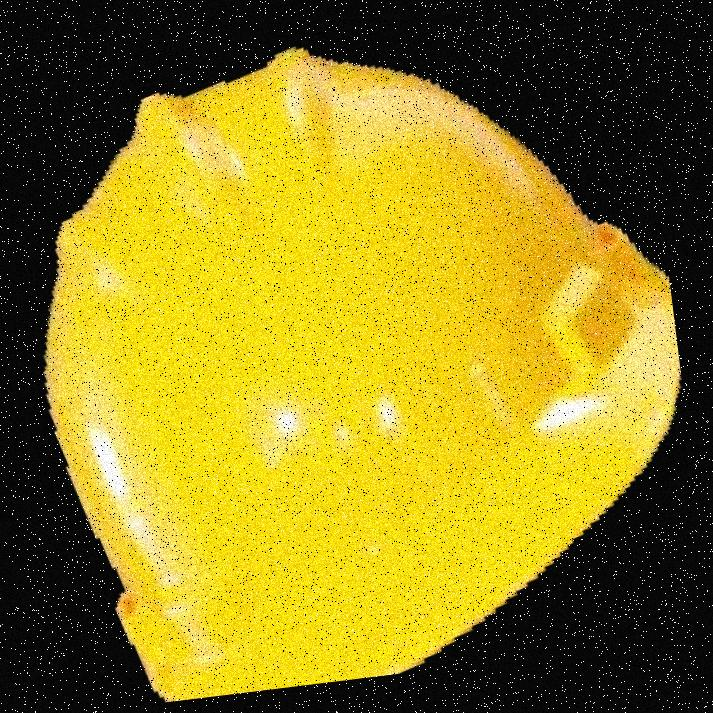Capacete: (109, 0, 537, 712)
